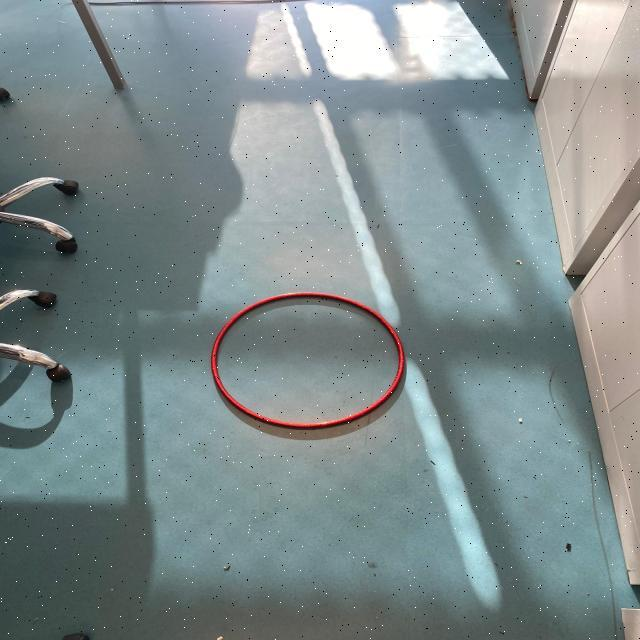Circle: (207, 288, 410, 437)
